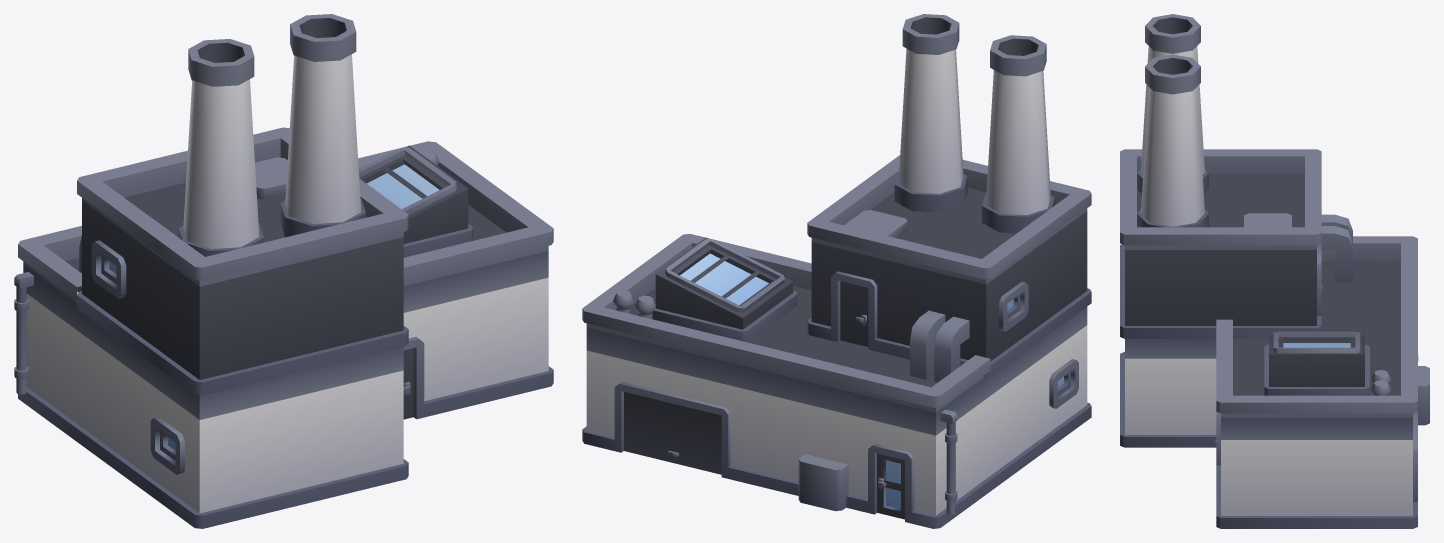
File: building-e_lev1.glb
3 views of the same model, side by side, from view 1: azimuth 30°, elevation 25°; view 2: azimuth 150°, elevation 25°; view 3: azimuth 270°, elevation 25° (orthographic). The views are drawn at different scales.
Parts seen in each view (by area): view 1: building-e_lev1; view 2: building-e_lev1; view 3: building-e_lev1.
Part boxes in pixels (x1,y1,x2,y2): building-e_lev1: (14,14,553,528); building-e_lev1: (582,14,1091,528); building-e_lev1: (1120,14,1429,528).
Bounding box in the file's own units: 1.68 × 1.65 × 1.29.
1 material, 1 textured.
